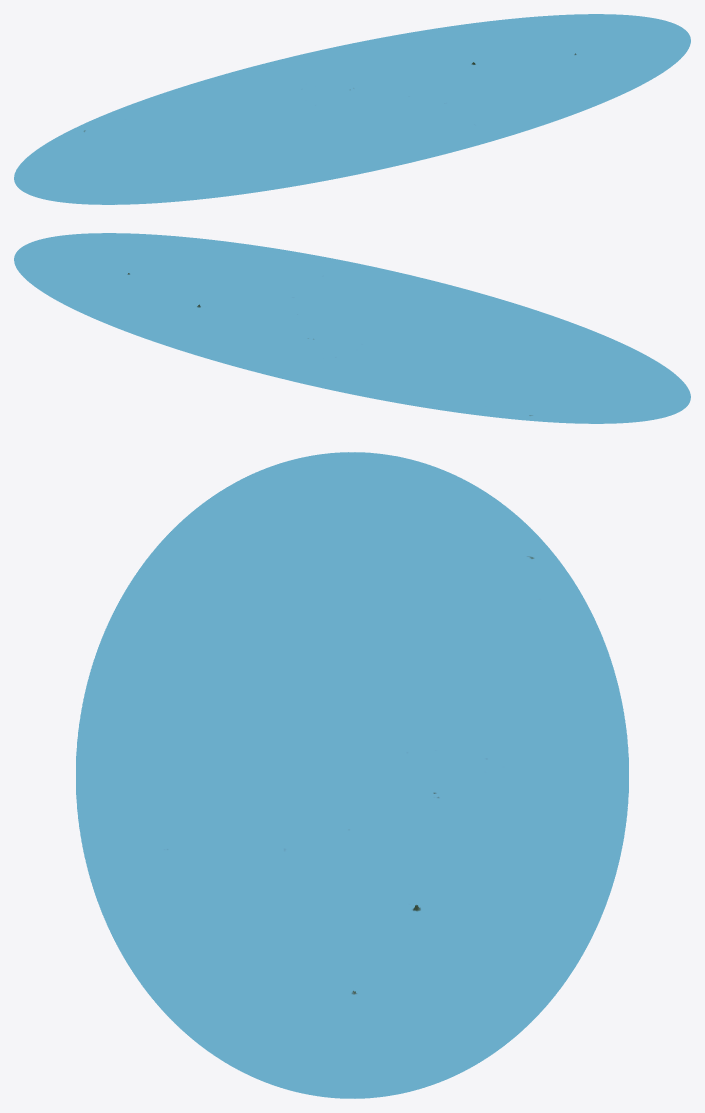
Rendered from FSM-previa-terrain.glb.
The picture shows the model from 3 angles, top to bottom: view 1: azimuth 30°, elevation 25°; view 2: azimuth 150°, elevation 25°; view 3: azimuth 270°, elevation 25°; orthographic projection. The views are drawn at different scales.
Parts seen in each view (by area): view 1: Micronésia; view 2: Micronésia; view 3: Micronésia.
Part boxes in pixels (<box>): Micronésia: <box>14,14,690,204</box>; Micronésia: <box>14,233,690,423</box>; Micronésia: <box>76,452,628,1098</box>.
Bounding box in the file's own units: 2.58 × 0.0441 × 0.9323.
1 material, 1 textured.
